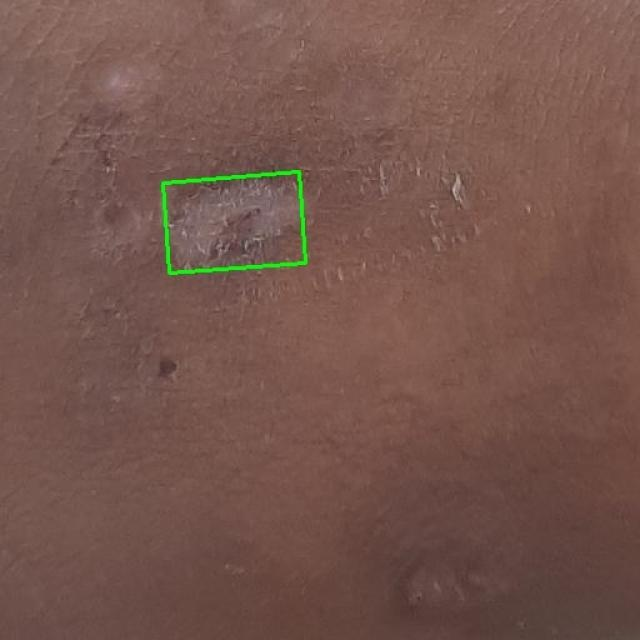Eczema: (163, 172, 306, 273)
